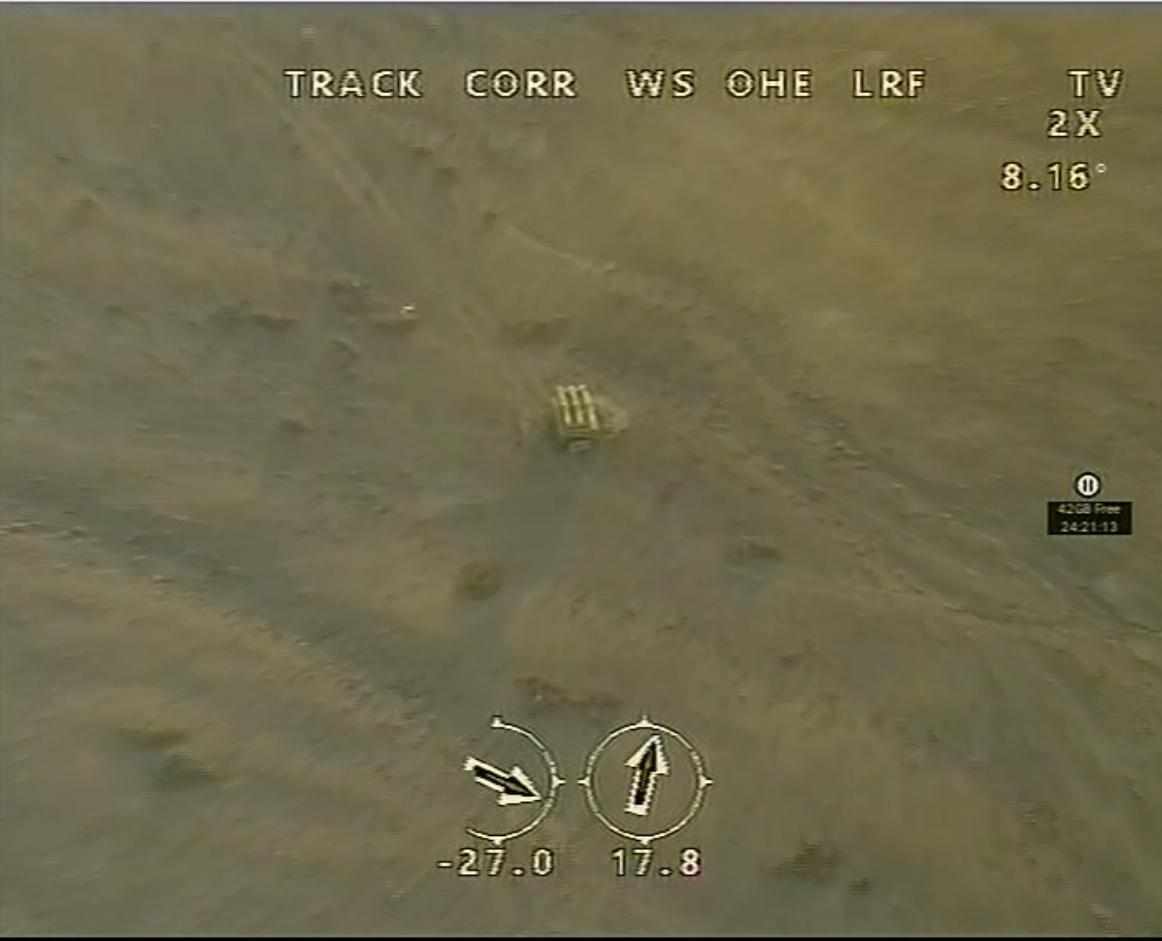armored_car: (544, 386, 614, 457)
